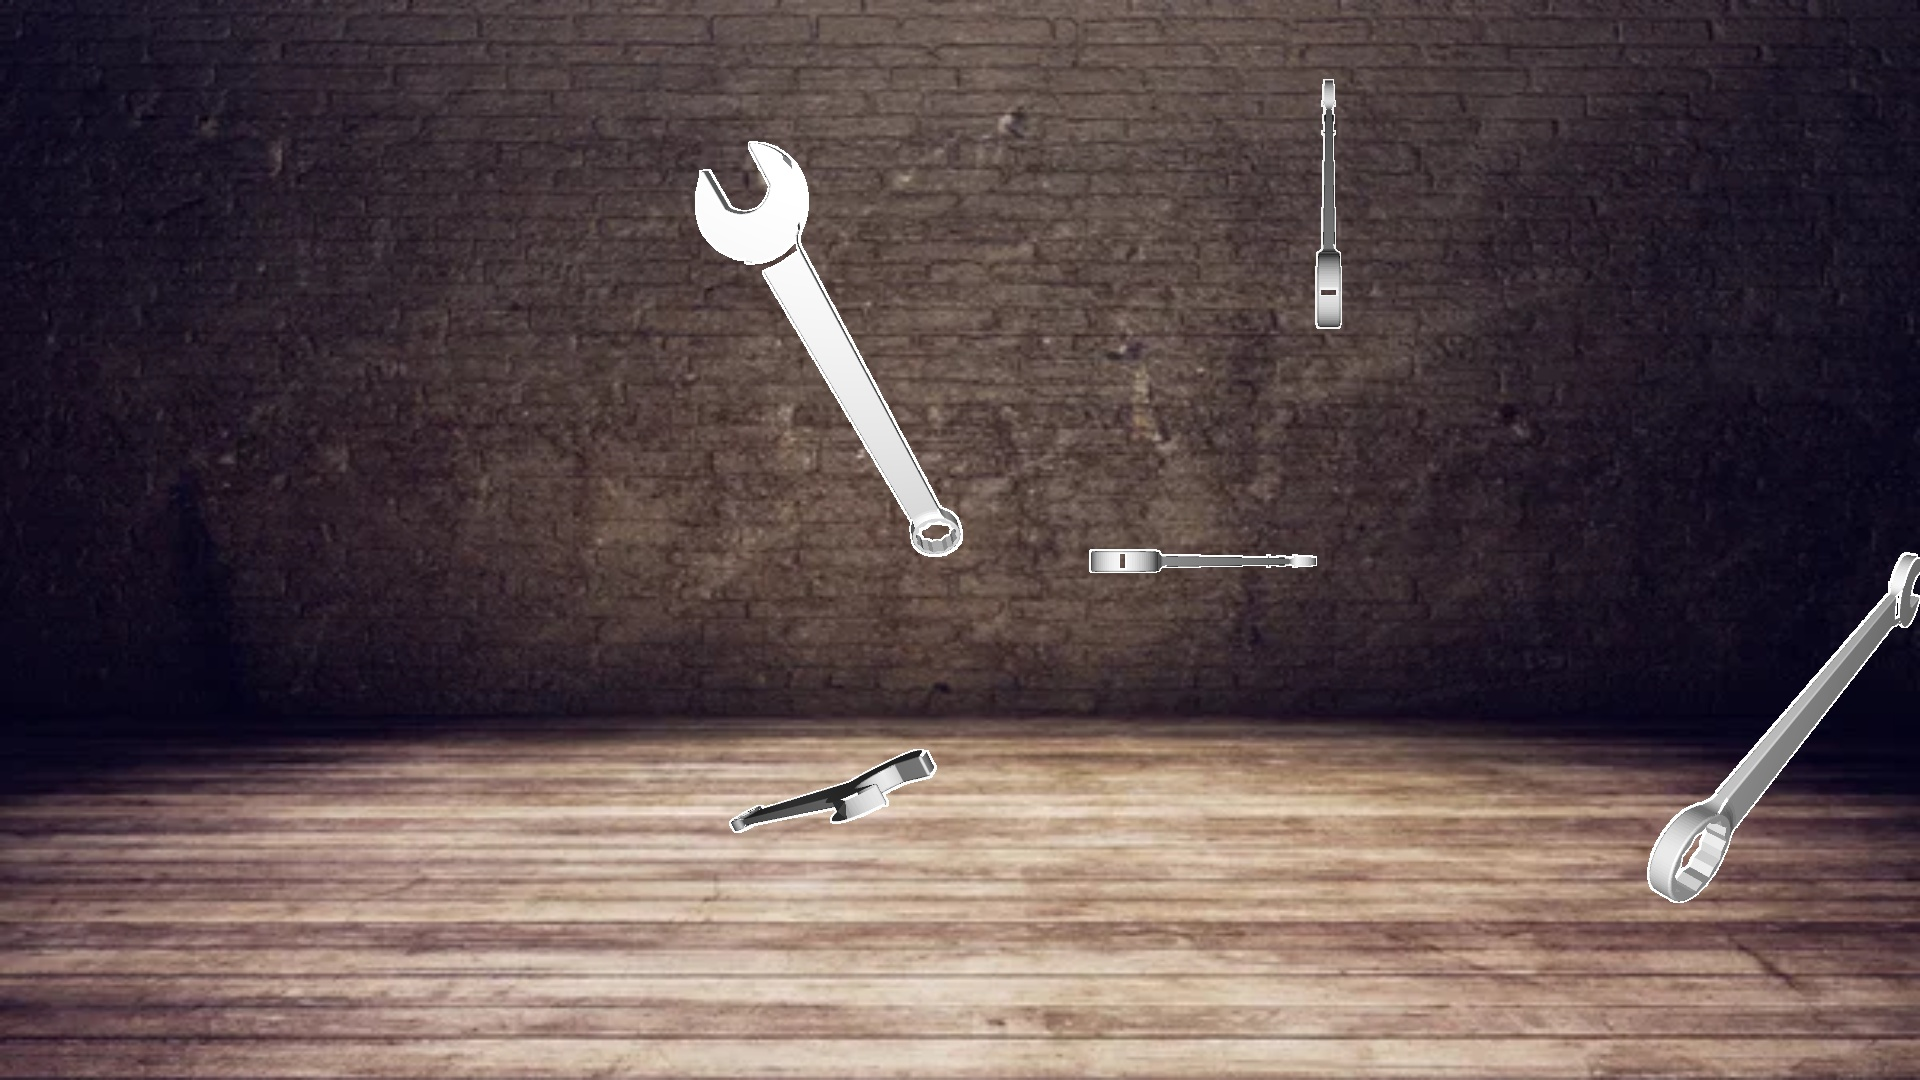Mixed Key: (695, 141, 963, 556), (1647, 553, 1919, 902), (729, 749, 936, 832), (1315, 79, 1341, 328), (1089, 549, 1316, 572)
